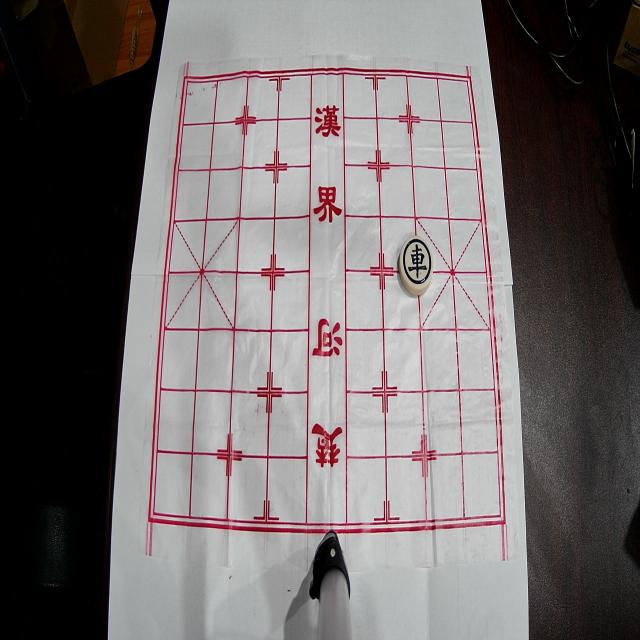black-chariot: (399, 236, 434, 295)
